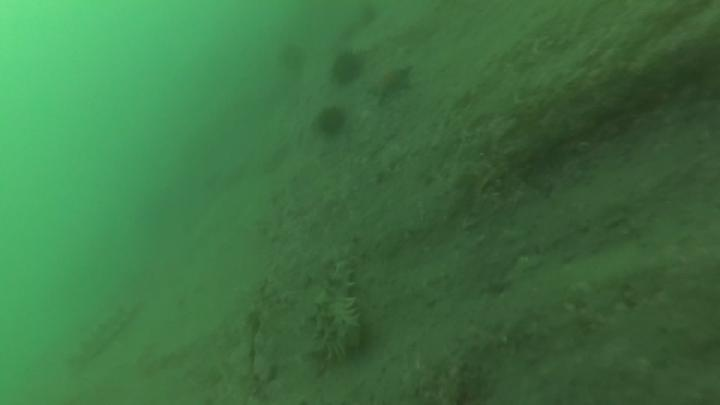echinus: (328, 48, 367, 89), (313, 104, 350, 139), (275, 40, 310, 76)
holothurian: (311, 255, 365, 365), (65, 297, 141, 368)
starfish: (364, 60, 416, 105)
